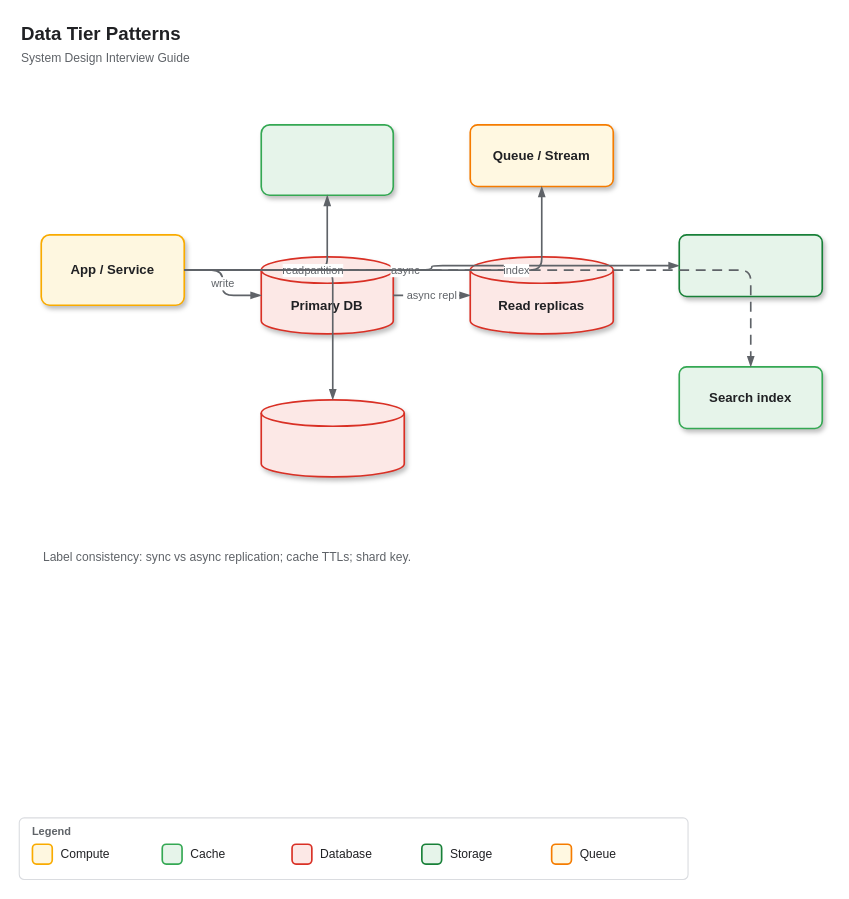
This 849x899 diagram has some shape labels left out. The centre of each missing label's shape, as x and y in pixels:
"Cache (Redis)" belongs at (x=328, y=161).
"Object store (blobs)" belongs at (x=751, y=266).
"Shard N (hash / range)" belongs at (x=333, y=439).
